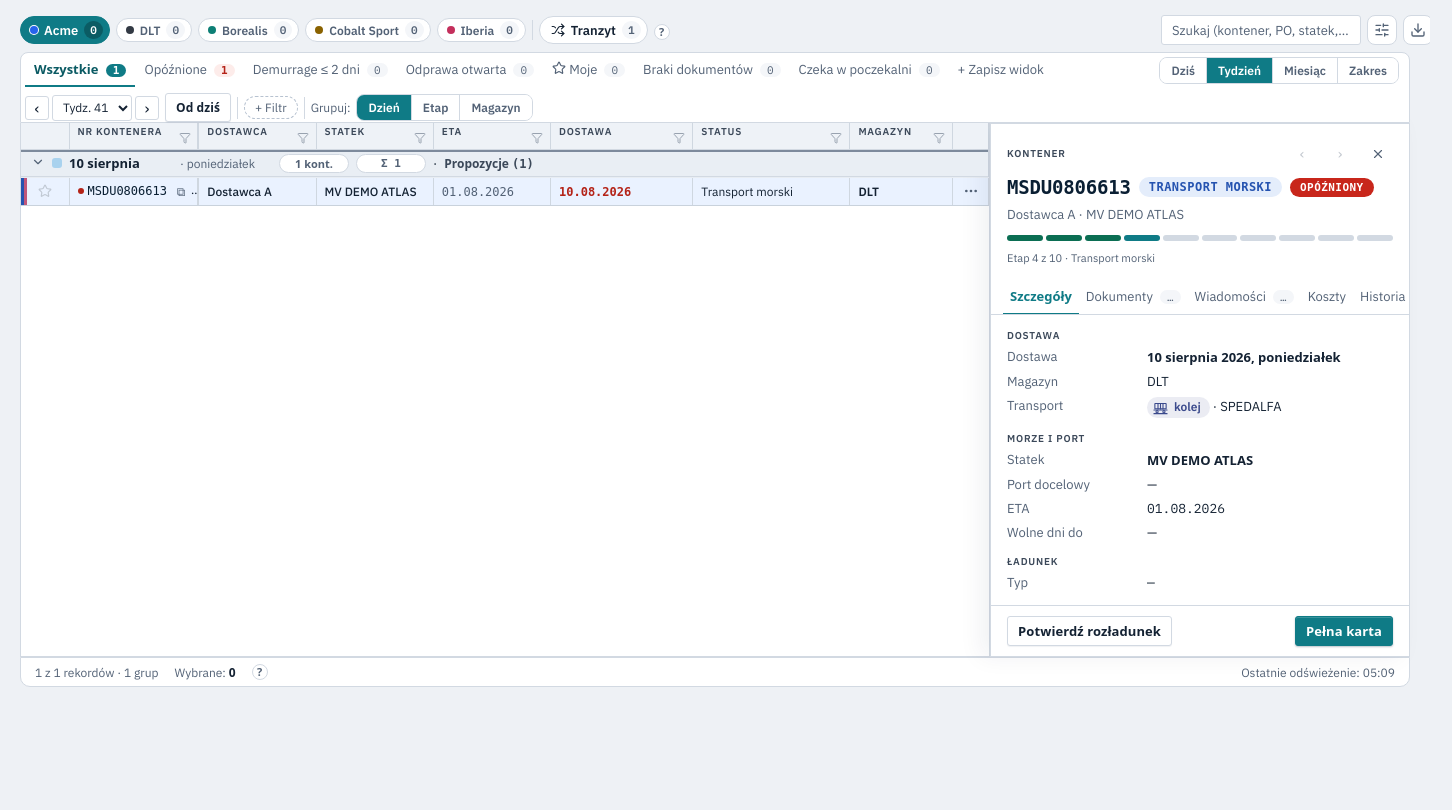
Scenario: szuflada — zakładki Dokumenty / Wiadomości / Koszty › magazyn nie widzi strefy wgrywania
Click the tab "Dokumenty …" at (1133, 297), box [1079,279,1188,315]
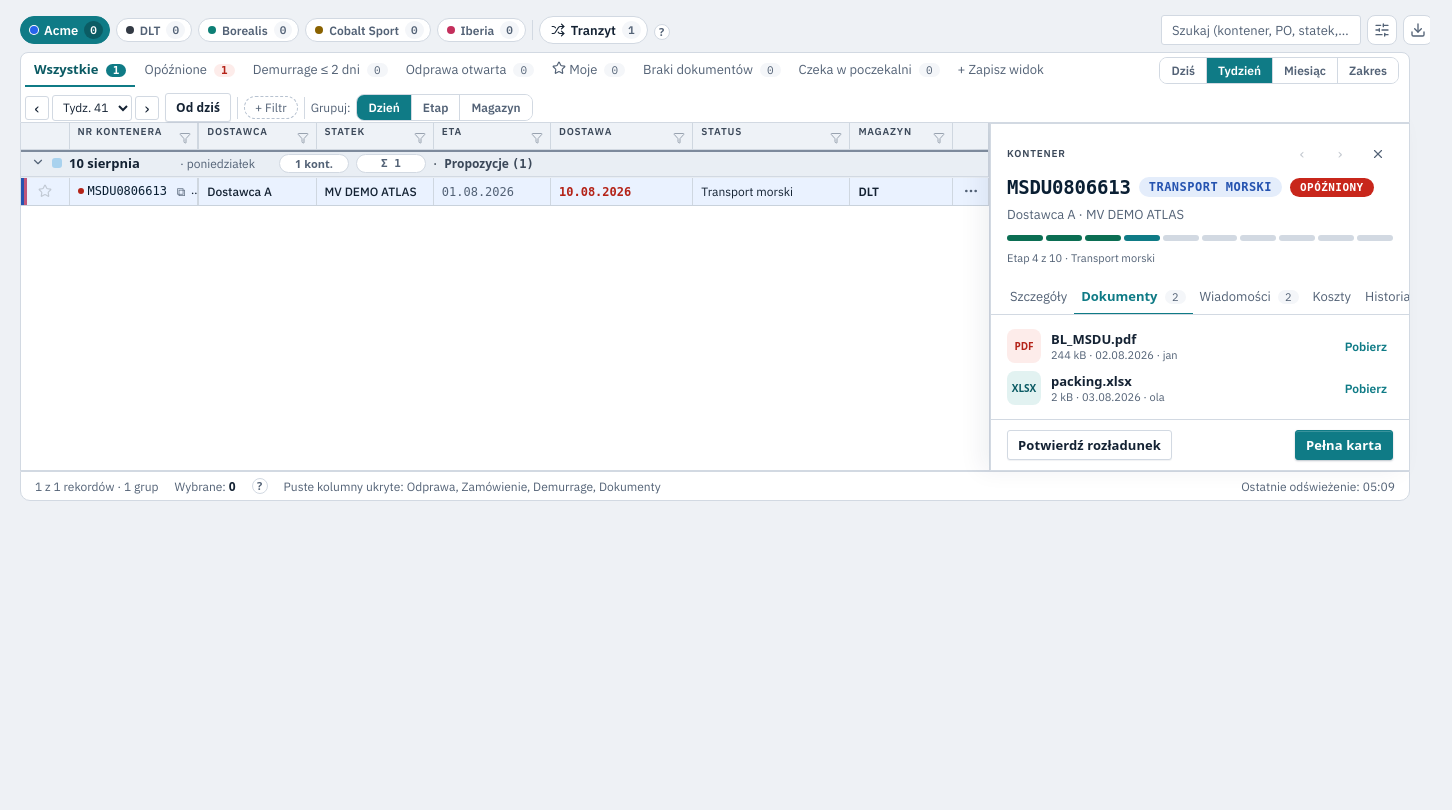
Check: the number of list items is 2, box [1007,329,1393,363]; [1007,371,1393,405]
